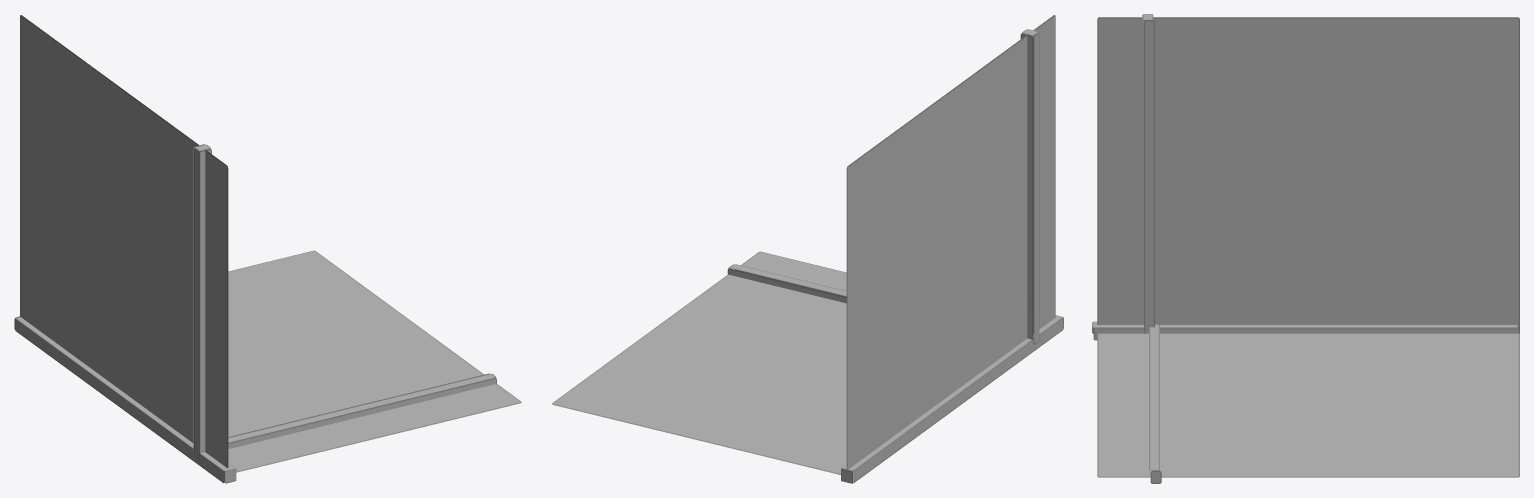
File: pz_fence_png_fencing_01_28.obj
3 views of the same model, side by side, from view 1: azimuth 30°, elevation 25°; view 2: azimuth 150°, elevation 25°; view 3: azimuth 270°, elevation 25° (orthographic).
Size of the model in its own units: 1.02 by 1.02 by 1.24.
Materials: 1 (1 with a texture image).
